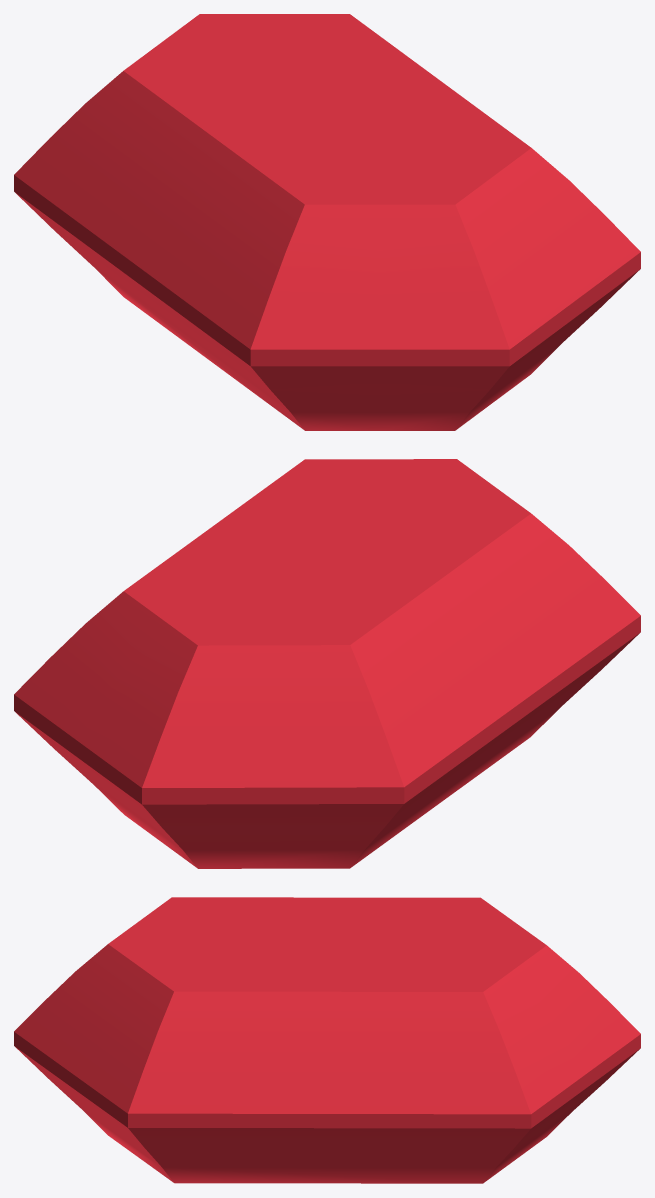
The model's file is Ruby_3.fbx.
The picture shows the model from 3 angles, top to bottom: view 1: azimuth 30°, elevation 25°; view 2: azimuth 150°, elevation 25°; view 3: azimuth 270°, elevation 25°; orthographic projection. The views are drawn at different scales.
Visible parts, largest first — view 1: Plane.012; view 2: Plane.012; view 3: Plane.012.
Boxes of the visible parts, x1=… form: Plane.012: x1=14, y1=14, x2=640, y2=430; Plane.012: x1=14, y1=459, x2=640, y2=868; Plane.012: x1=14, y1=897, x2=640, y2=1183.
Size of the model in its own units: 1.3 by 0.7116 by 2.11.
1 material, 1 textured.
